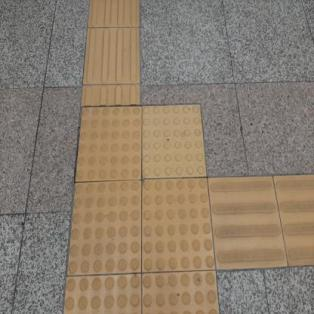Podoctatil: (58, 0, 313, 313)
